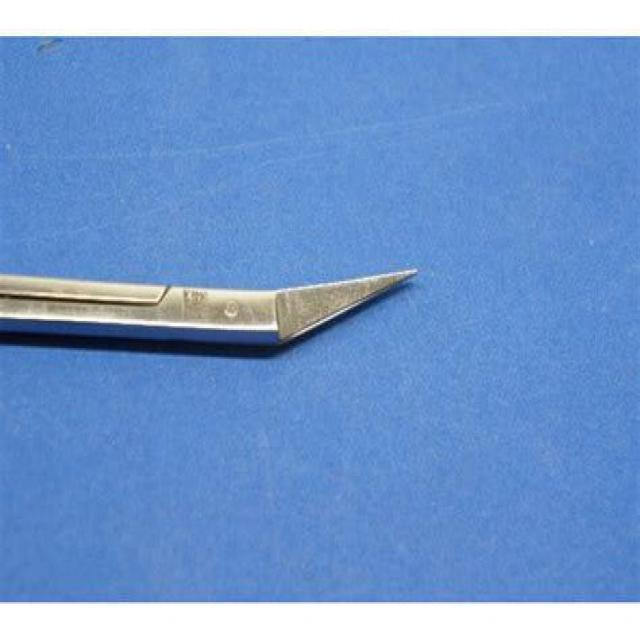Potts: (4, 260, 421, 366)
